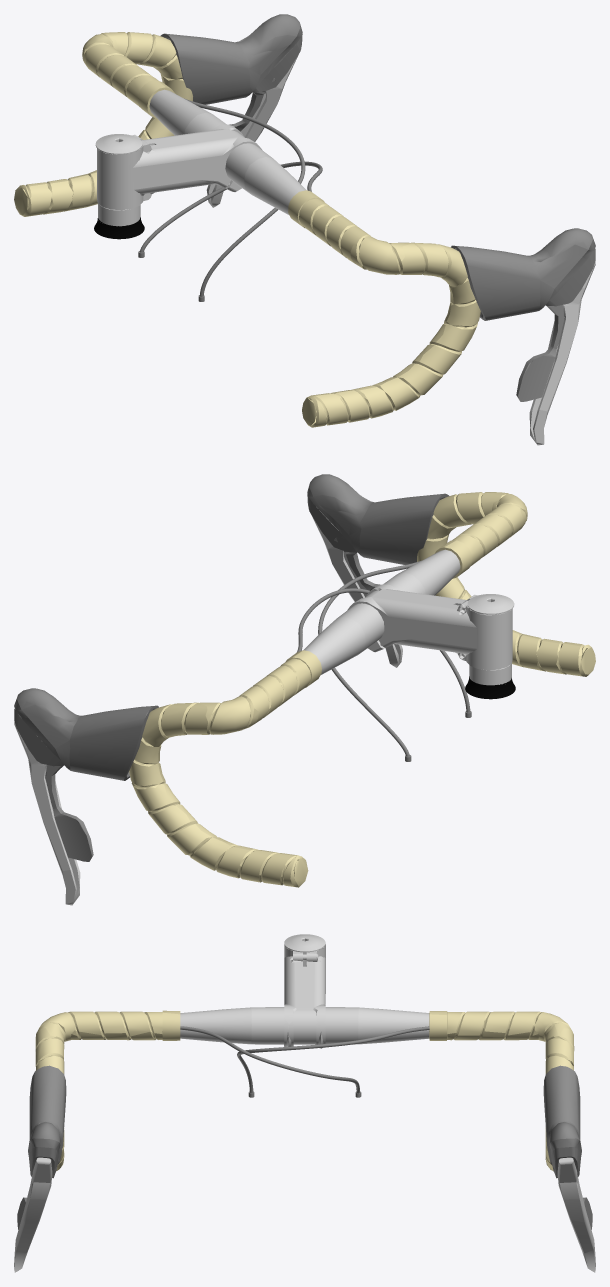
The model's file is Handle2_Drop_NoShifter.glb.
3 renders of one model, top to bottom at view 1: azimuth 30°, elevation 25°; view 2: azimuth 150°, elevation 25°; view 3: azimuth 270°, elevation 25°, orthographic. The views are drawn at different scales.
Visible parts, largest first — view 1: no_transformations (×7); view 2: no_transformations (×7); view 3: no_transformations (×6).
Part boxes in pixels (box(x1,y1,x2,y2)): no_transformations (×7): box(14, 14, 595, 445); no_transformations (×7): box(14, 474, 595, 905); no_transformations (×6): box(14, 934, 595, 1272).
Bounding box in the file's own units: 300 × 206 × 491.
